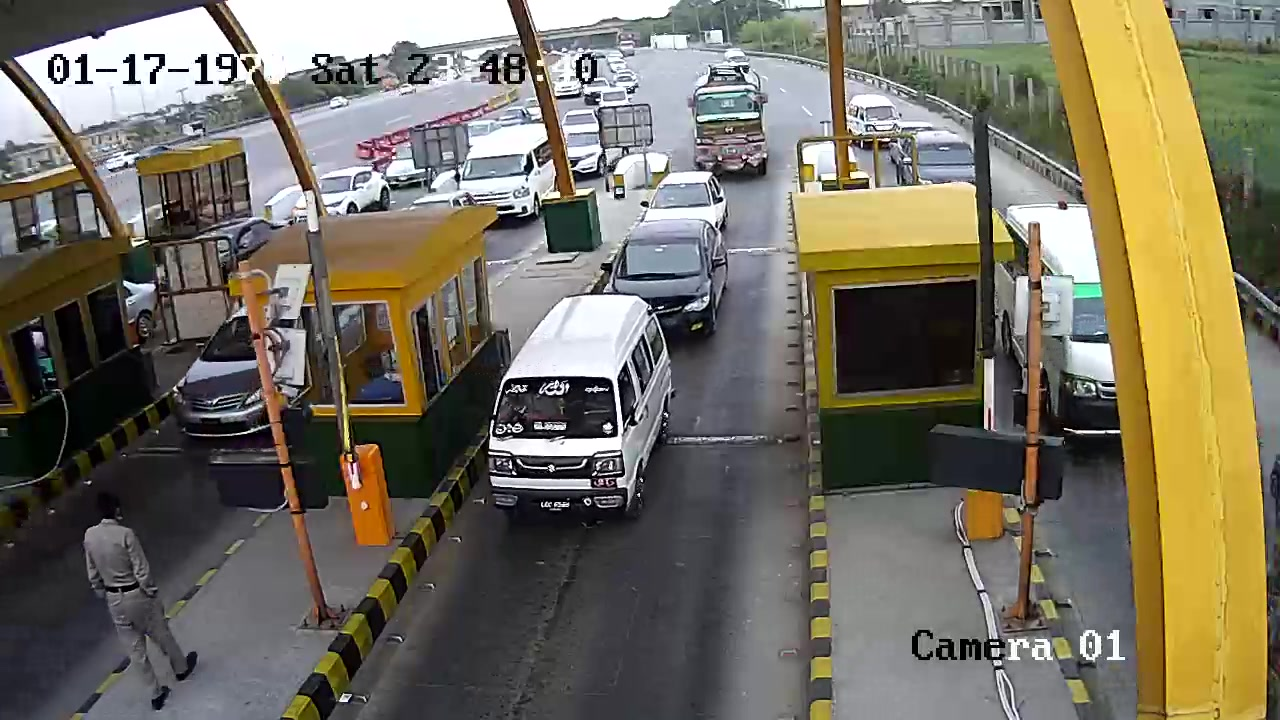F1: (484, 286, 674, 526)
